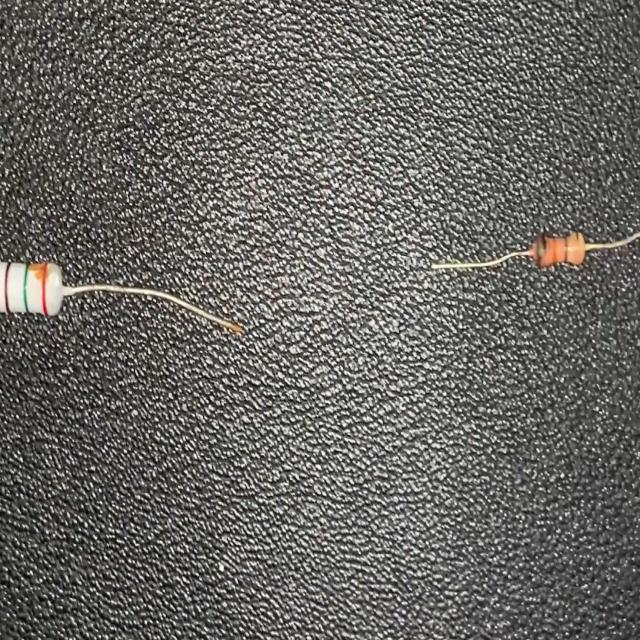burnt: (527, 233, 550, 270), (25, 259, 53, 282)
faded: (571, 232, 582, 264)
resistor: (0, 255, 246, 339), (427, 225, 640, 278)
